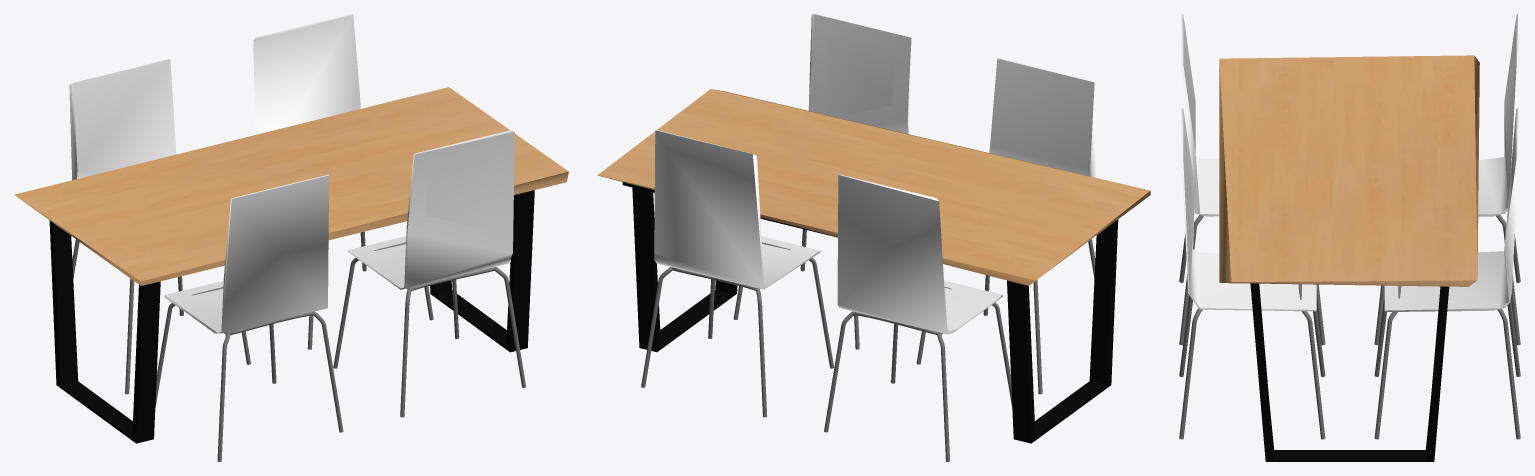
The model's file is dining_set.glb.
3 renders of one model, left to right at view 1: azimuth 30°, elevation 25°; view 2: azimuth 150°, elevation 25°; view 3: azimuth 270°, elevation 25°, orthographic. The views are drawn at different scales.
Parts seen in each view (by area): view 1: Object001_Material #1_0; view 2: Object001_Material #1_0; view 3: Object001_Material #1_0.
Boxes of the visible parts, left/top/right/bottom form: Object001_Material #1_0: left=14, top=14, right=568, bottom=461; Object001_Material #1_0: left=597, top=14, right=1150, bottom=461; Object001_Material #1_0: left=1179, top=14, right=1520, bottom=461.
Size of the model in its own units: 1.59 by 0.9 by 1.01.
Materials: 1 (1 with a texture image).
